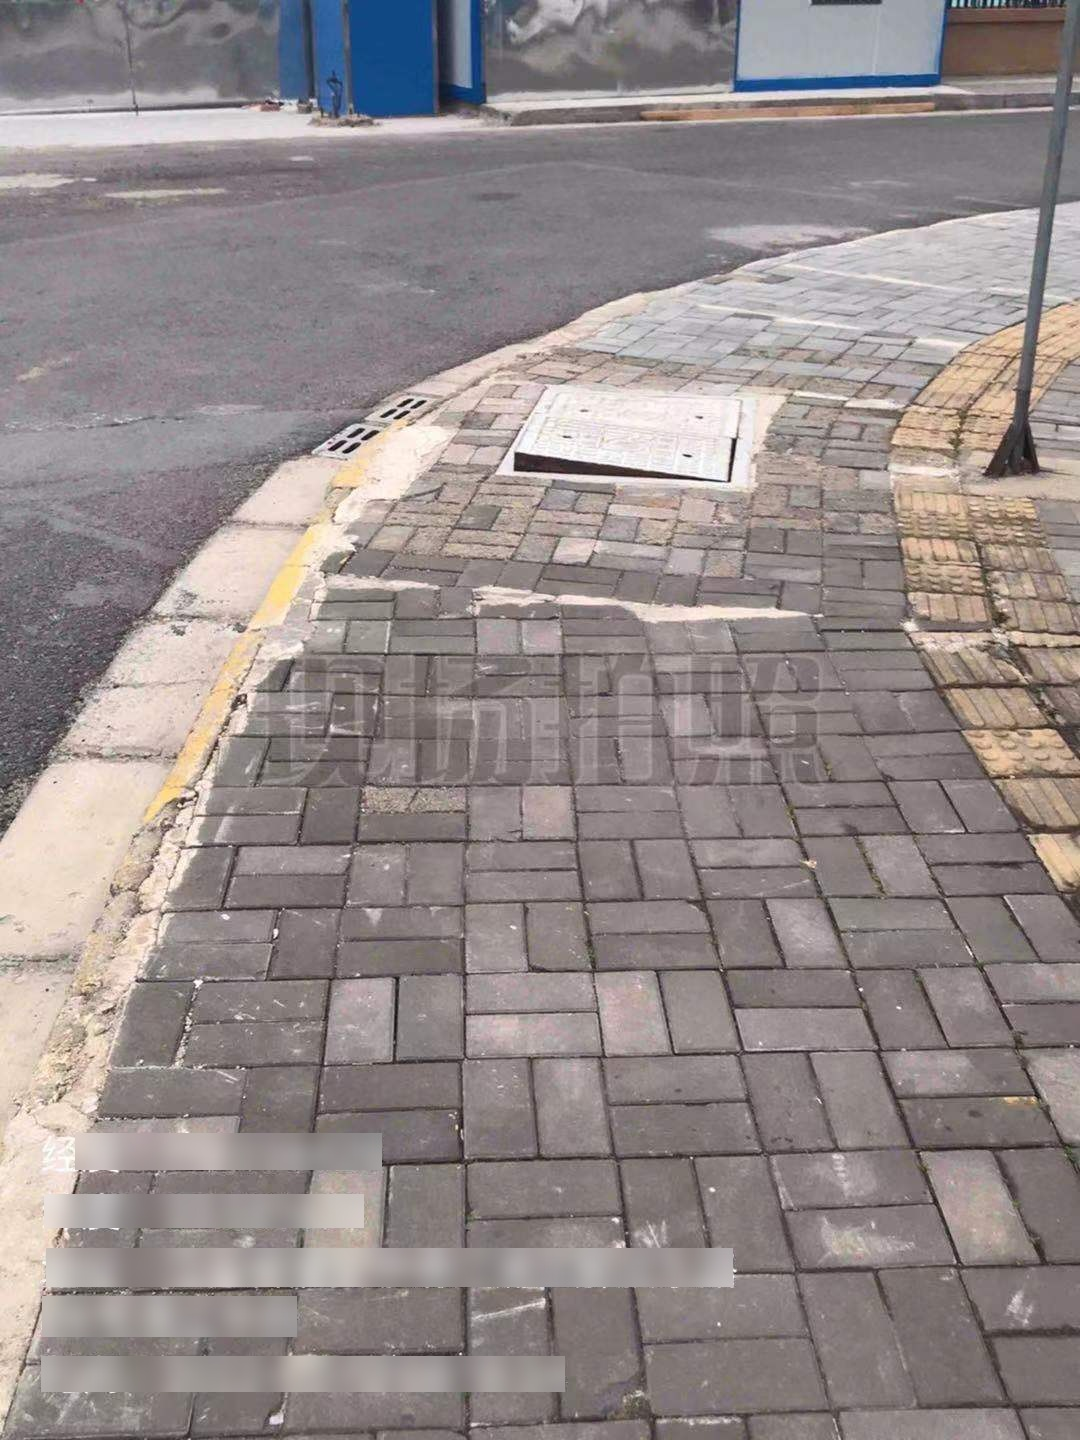uncovered: (489, 386, 763, 491)
